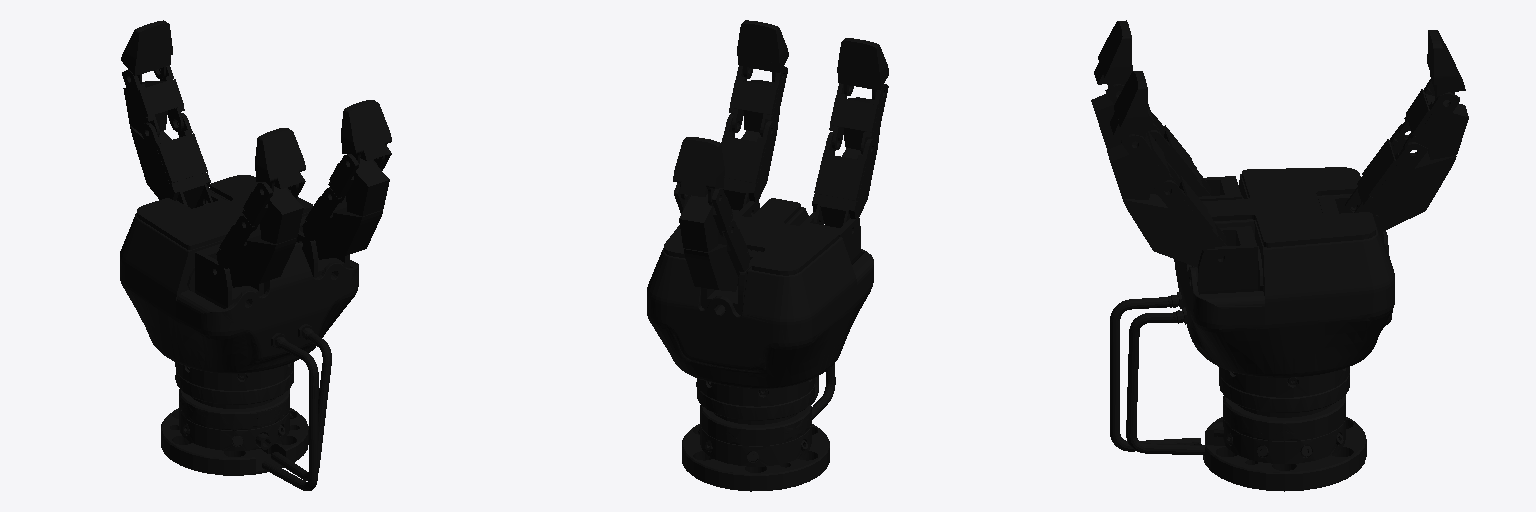
URDF robot description (left_robotiq_gripper_3_finger_adaptive):
<?xml version="1.0" ?>
<!-- =================================================================================== -->
<!-- |    This document was autogenerated by xacro from left_robotiq_gripper_3_finger_adaptive.xacro | -->
<!-- |    EDITING THIS FILE BY HAND IS NOT RECOMMENDED                                 | -->
<!-- =================================================================================== -->
<robot name="left_robotiq_gripper_3_finger_adaptive" xmlns:xacro="http://www.ros.org/wiki/xacro">
  <link name="left_gripper_base_link">
    <visual>
      <origin rpy="0 0 0" xyz="0 0 0"/>
      <geometry>
        <mesh filename="package://robotiq_gripper_3_finger_adaptive_support/meshes/gripper_base_link.STL"/>
      </geometry>
      <material name="">
        <color rgba="0.10196 0.10196 0.10196 1"/>
      </material>
    </visual>
    <collision>
      <origin rpy="0 0 0" xyz="0 0 0"/>
      <geometry>
        <mesh filename="package://robotiq_gripper_3_finger_adaptive_support/meshes/gripper_base_link.STL"/>
      </geometry>
    </collision>
  </link>
  <link name="left_gripper_finger_link_a_1">
    <visual>
      <origin rpy="0 0 0" xyz="0 0 0"/>
      <geometry>
        <mesh filename="package://robotiq_gripper_3_finger_adaptive_support/meshes/gripper_finger_link_1.STL"/>
      </geometry>
      <material name="">
        <color rgba="0.10196 0.10196 0.10196 1"/>
      </material>
    </visual>
    <collision>
      <origin rpy="0 0 0" xyz="0 0 0"/>
      <geometry>
        <mesh filename="package://robotiq_gripper_3_finger_adaptive_support/meshes/gripper_finger_link_1.STL"/>
      </geometry>
    </collision>
  </link>
  <joint name="left_gripper_finger_joint_a_1" type="revolute">
    <origin rpy="1.57079632679 0.0079495 -3.0107" xyz="0.044008 -0.054539 0.13897"/>
    <parent link="left_gripper_base_link"/>
    <child link="left_gripper_finger_link_a_1"/>
    <axis xyz="0 0 -1"/>
    <limit effort="1000" lower="-0.1755" upper="0.1744" velocity="0.1744"/>
  </joint>
  <link name="left_gripper_finger_link_a_2">
    <visual>
      <origin rpy="0 0 0" xyz="0 0 0"/>
      <geometry>
        <mesh filename="package://robotiq_gripper_3_finger_adaptive_support/meshes/gripper_finger_link_2.STL"/>
      </geometry>
      <material name="">
        <color rgba="0.10196 0.10196 0.10196 1"/>
      </material>
    </visual>
    <collision>
      <origin rpy="0 0 0" xyz="0 0 0"/>
      <geometry>
        <mesh filename="package://robotiq_gripper_3_finger_adaptive_support/meshes/gripper_finger_link_2.STL"/>
      </geometry>
    </collision>
  </link>
  <joint name="left_gripper_finger_joint_a_2" type="revolute">
    <origin rpy="3.14159265359 -1.57079632679 3.14159265359" xyz="0.011219 0.021604 0.014288"/>
    <parent link="left_gripper_finger_link_a_1"/>
    <child link="left_gripper_finger_link_a_2"/>
    <axis xyz="0 0 -1"/>
    <limit effort="1000" lower="0" upper="1.4801" velocity="1.4801"/>
  </joint>
  <link name="left_gripper_finger_link_a_3">
    <visual>
      <origin rpy="0 0 0" xyz="0 0 0"/>
      <geometry>
        <mesh filename="package://robotiq_gripper_3_finger_adaptive_support/meshes/gripper_finger_link_3.STL"/>
      </geometry>
      <material name="">
        <color rgba="0.10196 0.10196 0.10196 1"/>
      </material>
    </visual>
    <collision>
      <origin rpy="0 0 0" xyz="0 0 0"/>
      <geometry>
        <mesh filename="package://robotiq_gripper_3_finger_adaptive_support/meshes/gripper_finger_link_3.STL"/>
      </geometry>
    </collision>
  </link>
  <joint name="left_gripper_finger_joint_a_3" type="revolute">
    <origin rpy="0 0 -0.05236" xyz="-0.03278 0.046815 -0.0007872"/>
    <parent link="left_gripper_finger_link_a_2"/>
    <child link="left_gripper_finger_link_a_3"/>
    <axis xyz="0 0 -1"/>
    <limit effort="1000" lower="0" upper="1.2322" velocity="1.2322"/>
  </joint>
  <link name="left_gripper_finger_link_a_4">
    <visual>
      <origin rpy="0 0 0" xyz="0 0 0"/>
      <geometry>
        <mesh filename="package://robotiq_gripper_3_finger_adaptive_support/meshes/gripper_finger_link_4.STL"/>
      </geometry>
      <material name="">
        <color rgba="0.10196 0.10196 0.10196 1"/>
      </material>
    </visual>
    <collision>
      <origin rpy="0 0 0" xyz="0 0 0"/>
      <geometry>
        <mesh filename="package://robotiq_gripper_3_finger_adaptive_support/meshes/gripper_finger_link_4.STL"/>
      </geometry>
    </collision>
  </link>
  <joint name="left_gripper_finger_joint_a_4" type="revolute">
    <origin rpy="0 0 0.05236" xyz="-0.021853 0.03121 1.28E-05"/>
    <parent link="left_gripper_finger_link_a_3"/>
    <child link="left_gripper_finger_link_a_4"/>
    <axis xyz="0 0 -1"/>
    <limit effort="1000" lower="-1.27" upper="0.6757" velocity="0.6757"/>
  </joint>
  <link name="left_gripper_finger_link_b_1">
    <visual>
      <origin rpy="0 0 0" xyz="0 0 0"/>
      <geometry>
        <mesh filename="package://robotiq_gripper_3_finger_adaptive_support/meshes/gripper_finger_link_1.STL"/>
      </geometry>
      <material name="">
        <color rgba="0.10196 0.10196 0.10196 1"/>
      </material>
    </visual>
    <collision>
      <origin rpy="0 0 0" xyz="0 0 0"/>
      <geometry>
        <mesh filename="package://robotiq_gripper_3_finger_adaptive_support/meshes/gripper_finger_link_1.STL"/>
      </geometry>
    </collision>
  </link>
  <joint name="left_gripper_finger_joint_b_1" type="revolute">
    <origin rpy="1.57079632679 0.0079495 -3.0107" xyz="-0.028392 -0.064071 0.13897"/>
    <parent link="left_gripper_base_link"/>
    <child link="left_gripper_finger_link_b_1"/>
    <axis xyz="0 0 1"/>
    <limit effort="1000" lower="-0.1755" upper="0.1744" velocity="0.1744"/>
  </joint>
  <link name="left_gripper_finger_link_b_2">
    <visual>
      <origin rpy="0 0 0" xyz="0 0 0"/>
      <geometry>
        <mesh filename="package://robotiq_gripper_3_finger_adaptive_support/meshes/gripper_finger_link_2.STL"/>
      </geometry>
      <material name="">
        <color rgba="0.10196 0.10196 0.10196 1"/>
      </material>
    </visual>
    <collision>
      <origin rpy="0 0 0" xyz="0 0 0"/>
      <geometry>
        <mesh filename="package://robotiq_gripper_3_finger_adaptive_support/meshes/gripper_finger_link_2.STL"/>
      </geometry>
    </collision>
  </link>
  <joint name="left_gripper_finger_joint_b_2" type="revolute">
    <origin rpy="3.14159265359 -1.57079632679 3.14159265359" xyz="0.011219 0.021604 0.014288"/>
    <parent link="left_gripper_finger_link_b_1"/>
    <child link="left_gripper_finger_link_b_2"/>
    <axis xyz="0 0 -1"/>
    <limit effort="1000" lower="0" upper="1.4801" velocity="1.4801"/>
  </joint>
  <link name="left_gripper_finger_link_b_3">
    <visual>
      <origin rpy="0 0 0" xyz="0 0 0"/>
      <geometry>
        <mesh filename="package://robotiq_gripper_3_finger_adaptive_support/meshes/gripper_finger_link_3.STL"/>
      </geometry>
      <material name="">
        <color rgba="0.10196 0.10196 0.10196 1"/>
      </material>
    </visual>
    <collision>
      <origin rpy="0 0 0" xyz="0 0 0"/>
      <geometry>
        <mesh filename="package://robotiq_gripper_3_finger_adaptive_support/meshes/gripper_finger_link_3.STL"/>
      </geometry>
    </collision>
  </link>
  <joint name="left_gripper_finger_joint_b_3" type="revolute">
    <origin rpy="0 0 -0.05236" xyz="-0.03278 0.046815 -0.0007872"/>
    <parent link="left_gripper_finger_link_b_2"/>
    <child link="left_gripper_finger_link_b_3"/>
    <axis xyz="0 0 -1"/>
    <limit effort="1000" lower="0" upper="1.2322" velocity="1.2322"/>
  </joint>
  <link name="left_gripper_finger_link_b_4">
    <visual>
      <origin rpy="0 0 0" xyz="0 0 0"/>
      <geometry>
        <mesh filename="package://robotiq_gripper_3_finger_adaptive_support/meshes/gripper_finger_link_4.STL"/>
      </geometry>
      <material name="">
        <color rgba="0.10196 0.10196 0.10196 1"/>
      </material>
    </visual>
    <collision>
      <origin rpy="0 0 0" xyz="0 0 0"/>
      <geometry>
        <mesh filename="package://robotiq_gripper_3_finger_adaptive_support/meshes/gripper_finger_link_4.STL"/>
      </geometry>
    </collision>
  </link>
  <joint name="left_gripper_finger_joint_b_4" type="revolute">
    <origin rpy="0 0 0.05236" xyz="-0.021853 0.03121 1.28E-05"/>
    <parent link="left_gripper_finger_link_b_3"/>
    <child link="left_gripper_finger_link_b_4"/>
    <axis xyz="0 0 -1"/>
    <limit effort="1000" lower="-1.27" upper="0.6757" velocity="0.6757"/>
  </joint>
  <link name="left_gripper_finger_link_c_1">
    <visual>
      <origin rpy="0 0 0" xyz="0 0 0"/>
      <geometry>
        <mesh filename="package://robotiq_gripper_3_finger_adaptive_support/meshes/gripper_finger_link_1.STL"/>
      </geometry>
      <material name="">
        <color rgba="0.10196 0.10196 0.10196 1"/>
      </material>
    </visual>
    <collision>
      <origin rpy="0 0 0" xyz="0 0 0"/>
      <geometry>
        <mesh filename="package://robotiq_gripper_3_finger_adaptive_support/meshes/gripper_finger_link_1.STL"/>
      </geometry>
    </collision>
  </link>
  <joint name="left_gripper_finger_joint_c_1" type="fixed">
    <origin rpy="1.57079632679 0.0079495 0.1309" xyz="-0.007695 0.058449 0.13897"/>
    <parent link="left_gripper_base_link"/>
    <child link="left_gripper_finger_link_c_1"/>
    <axis xyz="0 0 0"/>
    <limit effort="1000" lower="0" upper="0" velocity="0"/>
  </joint>
  <link name="left_gripper_finger_link_c_2">
    <visual>
      <origin rpy="0 0 0" xyz="0 0 0"/>
      <geometry>
        <mesh filename="package://robotiq_gripper_3_finger_adaptive_support/meshes/gripper_finger_link_2.STL"/>
      </geometry>
      <material name="">
        <color rgba="0.10196 0.10196 0.10196 1"/>
      </material>
    </visual>
    <collision>
      <origin rpy="0 0 0" xyz="0 0 0"/>
      <geometry>
        <mesh filename="package://robotiq_gripper_3_finger_adaptive_support/meshes/gripper_finger_link_2.STL"/>
      </geometry>
    </collision>
  </link>
  <joint name="left_gripper_finger_joint_c_2" type="revolute">
    <origin rpy="3.14159265359 -1.57079632679 3.14159265359" xyz="0.011219 0.021604 0.014288"/>
    <parent link="left_gripper_finger_link_c_1"/>
    <child link="left_gripper_finger_link_c_2"/>
    <axis xyz="0 0 -1"/>
    <limit effort="1000" lower="0" upper="1.4801" velocity="1.4801"/>
  </joint>
  <link name="left_gripper_finger_link_c_3">
    <visual>
      <origin rpy="0 0 0" xyz="0 0 0"/>
      <geometry>
        <mesh filename="package://robotiq_gripper_3_finger_adaptive_support/meshes/gripper_finger_link_3.STL"/>
      </geometry>
      <material name="">
        <color rgba="0.10196 0.10196 0.10196 1"/>
      </material>
    </visual>
    <collision>
      <origin rpy="0 0 0" xyz="0 0 0"/>
      <geometry>
        <mesh filename="package://robotiq_gripper_3_finger_adaptive_support/meshes/gripper_finger_link_3.STL"/>
      </geometry>
    </collision>
  </link>
  <joint name="left_gripper_finger_joint_c_3" type="revolute">
    <origin rpy="0 0 -0.05236" xyz="-0.03278 0.046815 -0.0007872"/>
    <parent link="left_gripper_finger_link_c_2"/>
    <child link="left_gripper_finger_link_c_3"/>
    <axis xyz="0 0 -1"/>
    <limit effort="1000" lower="0" upper="1.2322" velocity="1.2322"/>
  </joint>
  <link name="left_gripper_finger_link_c_4">
    <visual>
      <origin rpy="0 0 0" xyz="0 0 0"/>
      <geometry>
        <mesh filename="package://robotiq_gripper_3_finger_adaptive_support/meshes/gripper_finger_link_4.STL"/>
      </geometry>
      <material name="">
        <color rgba="0.10196 0.10196 0.10196 1"/>
      </material>
    </visual>
    <collision>
      <origin rpy="0 0 0" xyz="0 0 0"/>
      <geometry>
        <mesh filename="package://robotiq_gripper_3_finger_adaptive_support/meshes/gripper_finger_link_4.STL"/>
      </geometry>
    </collision>
  </link>
  <joint name="left_gripper_finger_joint_c_4" type="revolute">
    <origin rpy="0 0 0.05236" xyz="-0.021853 0.03121 1.28E-05"/>
    <parent link="left_gripper_finger_link_c_3"/>
    <child link="left_gripper_finger_link_c_4"/>
    <axis xyz="0 0 -1"/>
    <limit effort="1000" lower="-1.27" upper="0.6757" velocity="0.6757"/>
  </joint>
</robot>

--- What the picture shows (computed from the rendered views, not written in the file) ---
The picture shows the robot from 3 angles, left to right: view 1: azimuth 30°, elevation 25°; view 2: azimuth 150°, elevation 25°; view 3: azimuth 270°, elevation 25°; orthographic projection.
Model left_robotiq_gripper_3_finger_adaptive with 13 links and 12 joints (11 revolute, 1 fixed), rooted at left_gripper_base_link, posed all joints at 0.
Visible links, largest first — view 1: left_gripper_base_link, left_gripper_finger_link_c_2, left_gripper_finger_link_a_2, left_gripper_finger_link_b_2, left_gripper_finger_link_c_3, left_gripper_finger_link_a_3, left_gripper_finger_link_b_3, left_gripper_finger_link_a_4, left_gripper_finger_link_b_4, left_gripper_finger_link_c_4, left_gripper_finger_link_b_1, left_gripper_finger_link_a_1; view 2: left_gripper_base_link, left_gripper_finger_link_b_2, left_gripper_finger_link_a_2, left_gripper_finger_link_c_2, left_gripper_finger_link_c_4, left_gripper_finger_link_b_3, left_gripper_finger_link_c_3, left_gripper_finger_link_a_3, left_gripper_finger_link_a_4, left_gripper_finger_link_b_4, left_gripper_finger_link_b_1, left_gripper_finger_link_c_1; view 3: left_gripper_base_link, left_gripper_finger_link_c_2, left_gripper_finger_link_a_2, left_gripper_finger_link_c_3, left_gripper_finger_link_a_1, left_gripper_finger_link_a_3, left_gripper_finger_link_a_4, left_gripper_finger_link_b_4, left_gripper_finger_link_c_4, left_gripper_finger_link_b_2, left_gripper_finger_link_b_3, left_gripper_finger_link_b_1 (+1 smaller).
Link boxes in pixels (bbox=[...]): left_gripper_base_link: bbox=[120, 175, 358, 490]; left_gripper_finger_link_c_2: bbox=[130, 113, 212, 208]; left_gripper_finger_link_a_2: bbox=[302, 187, 382, 259]; left_gripper_finger_link_b_2: bbox=[216, 215, 296, 287]; left_gripper_finger_link_c_3: bbox=[122, 65, 184, 136]; left_gripper_finger_link_a_3: bbox=[328, 145, 391, 216]; left_gripper_finger_link_b_3: bbox=[242, 173, 305, 243]; left_gripper_finger_link_a_4: bbox=[341, 100, 391, 168]; left_gripper_finger_link_b_4: bbox=[255, 128, 305, 196]; left_gripper_finger_link_c_4: bbox=[121, 20, 172, 83]; left_gripper_finger_link_b_1: bbox=[195, 244, 263, 308]; left_gripper_finger_link_a_1: bbox=[296, 216, 349, 277]; left_gripper_base_link: bbox=[647, 198, 873, 491]; left_gripper_finger_link_b_2: bbox=[812, 132, 878, 227]; left_gripper_finger_link_a_2: bbox=[721, 114, 777, 210]; left_gripper_finger_link_c_2: bbox=[684, 220, 749, 291]; left_gripper_finger_link_c_4: bbox=[673, 137, 724, 205]; left_gripper_finger_link_b_3: bbox=[829, 83, 888, 154]; left_gripper_finger_link_c_3: bbox=[674, 183, 732, 251]; left_gripper_finger_link_a_3: bbox=[729, 66, 787, 136]; left_gripper_finger_link_a_4: bbox=[737, 20, 788, 81]; left_gripper_finger_link_b_4: bbox=[837, 38, 888, 99]; left_gripper_finger_link_b_1: bbox=[800, 212, 860, 264]; left_gripper_finger_link_c_1: bbox=[701, 250, 762, 314]; left_gripper_base_link: bbox=[1110, 167, 1394, 491]; left_gripper_finger_link_c_2: bbox=[1345, 123, 1456, 230]; left_gripper_finger_link_a_2: bbox=[1123, 163, 1226, 267]; left_gripper_finger_link_c_3: bbox=[1399, 79, 1468, 159]; left_gripper_finger_link_a_1: bbox=[1192, 226, 1257, 294]; left_gripper_finger_link_a_3: bbox=[1107, 130, 1175, 199]; left_gripper_finger_link_a_4: bbox=[1110, 71, 1147, 145]; left_gripper_finger_link_b_4: bbox=[1094, 20, 1132, 95]; left_gripper_finger_link_c_4: bbox=[1427, 30, 1465, 104]; left_gripper_finger_link_b_2: bbox=[1107, 114, 1210, 196]; left_gripper_finger_link_b_3: bbox=[1091, 84, 1159, 148]; left_gripper_finger_link_b_1: bbox=[1199, 176, 1241, 200].
Size in the robot's own frame: 0.1367 by 0.2304 by 0.2778 metres.
13 mesh visuals loaded from 5 distinct referenced files (5 binary STL).